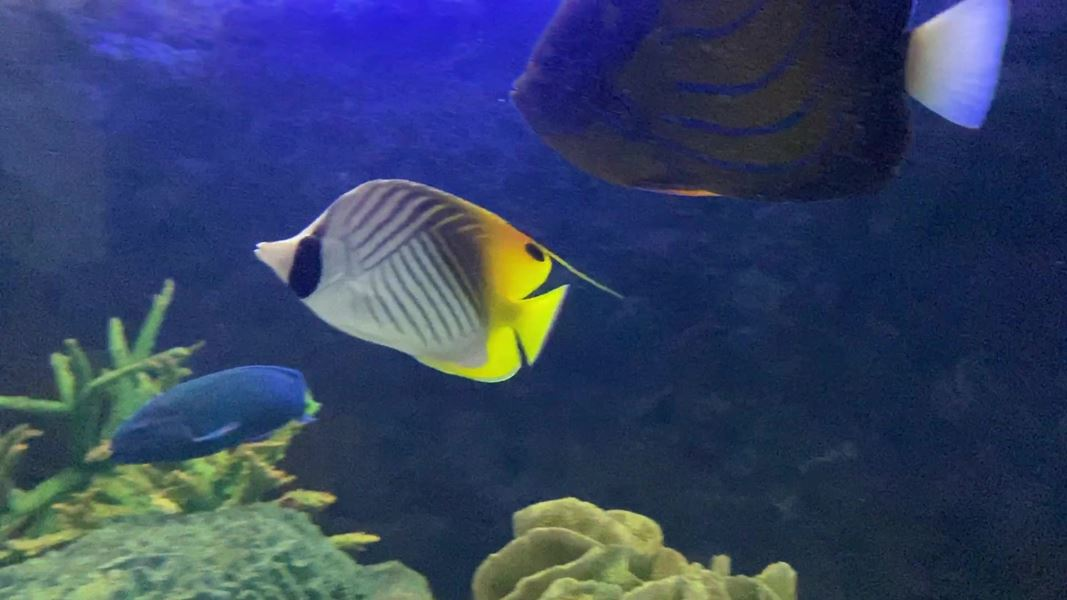Blue ring angelfish: (505, 1, 1033, 240)
